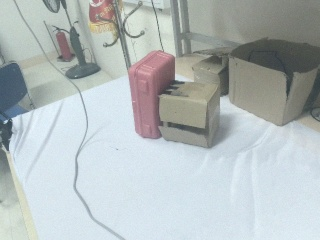box: (229, 38, 320, 125), (159, 81, 220, 147)
toy_car: (88, 1, 119, 46)
